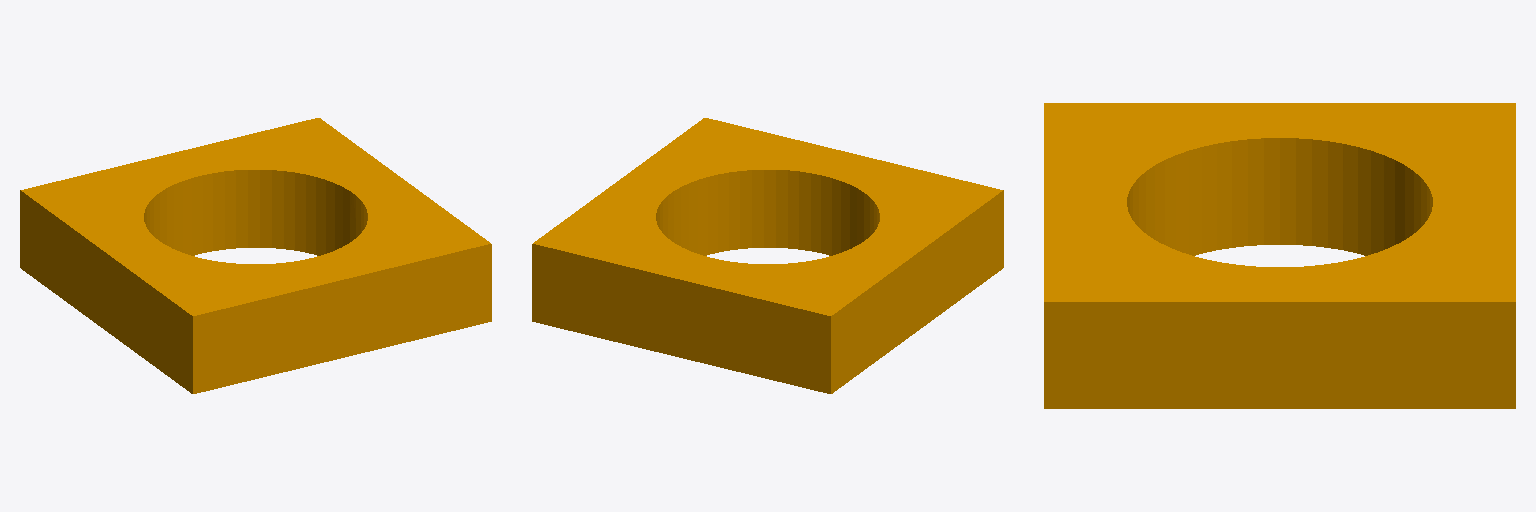
URDF robot description (round_hole_2in_sim_loose):
<?xml version="1.0"?>
<robot name="round_hole_2in_sim_loose">
    <link name="round_hole_2in_sim_loose">
        <visual>
            <!--origin xyz="0 0 0.01905" rpy="0 1.57079632679 0"-->
            <geometry>
                <mesh filename="../mesh/factory_insertion/socket.obj"/>
            </geometry>
        </visual>
        <collision>
            <!--origin xyz="0 0 0.01905" rpy="0 1.57079632679 0"-->
            <geometry>
                <mesh filename="../mesh/factory_insertion/socket.obj"/>
            </geometry>
            <sdf resolution="256" />
        </collision>
    </link>
</robot>

--- Render facts (derived) ---
3 views of the same robot in one strip: view 1: azimuth 30°, elevation 25°; view 2: azimuth 150°, elevation 25°; view 3: azimuth 270°, elevation 25° (orthographic).
Model round_hole_2in_sim_loose with 1 links and 0 joints (none), rooted at round_hole_2in_sim_loose, posed every joint at zero.
Links seen in each view (by area): view 1: round_hole_2in_sim_loose; view 2: round_hole_2in_sim_loose; view 3: round_hole_2in_sim_loose.
Boxes of the visible links, x1=… form: round_hole_2in_sim_loose: x1=20, y1=118, x2=491, y2=393; round_hole_2in_sim_loose: x1=532, y1=118, x2=1003, y2=393; round_hole_2in_sim_loose: x1=1044, y1=103, x2=1515, y2=408.
Bounding box of the posed robot: 0.08 × 0.08 × 0.02 m (x, y, z).
1 mesh visuals loaded from 1 distinct referenced files (1 OBJ).
